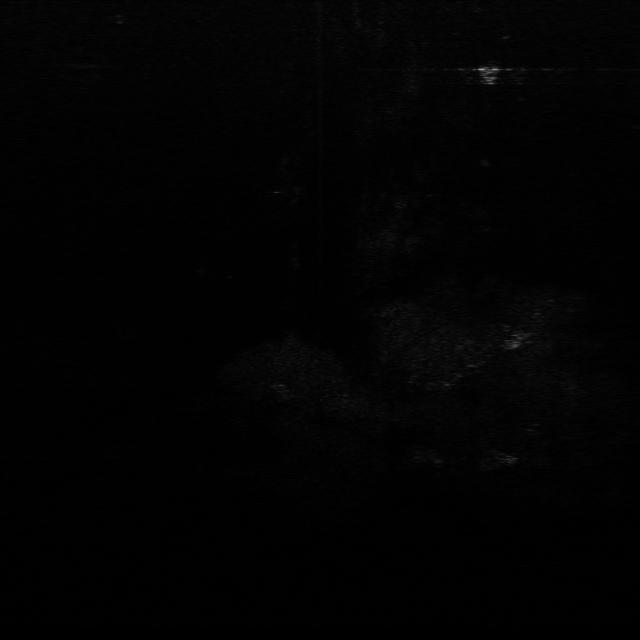rov: (474, 62, 504, 89)
